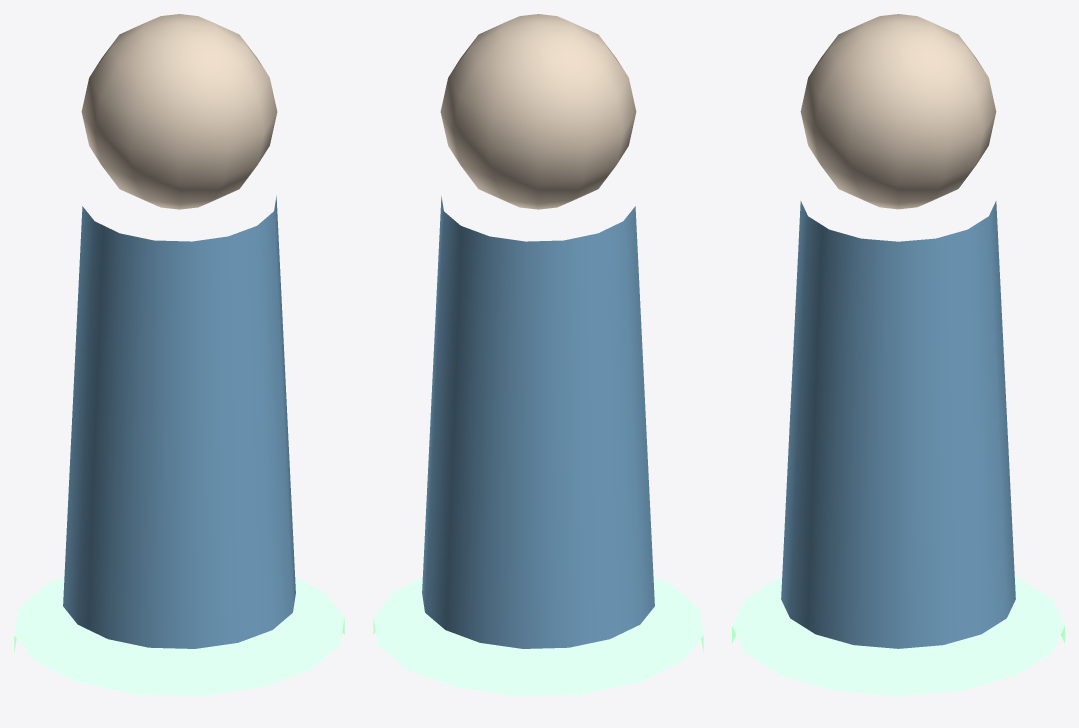
File: model.player_spawn.glb
3 renders of one model, left to right at view 1: azimuth 30°, elevation 25°; view 2: azimuth 150°, elevation 25°; view 3: azimuth 270°, elevation 25°, orthographic.
Visible parts, largest first — view 1: player_spawn; view 2: player_spawn; view 3: player_spawn.
Part boxes in pixels (x1,y1,x2,y2): player_spawn: (14,14,344,696); player_spawn: (373,14,703,696); player_spawn: (732,14,1064,696).
Bounding box in the file's own units: 0.6802 × 1.4 × 0.6802.
